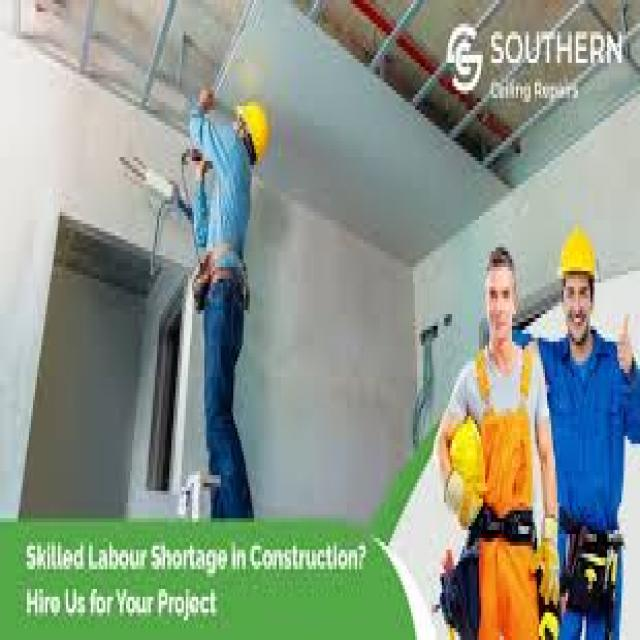Safety-Helmet: (440, 413, 495, 495), (551, 212, 605, 291), (233, 94, 275, 165)
